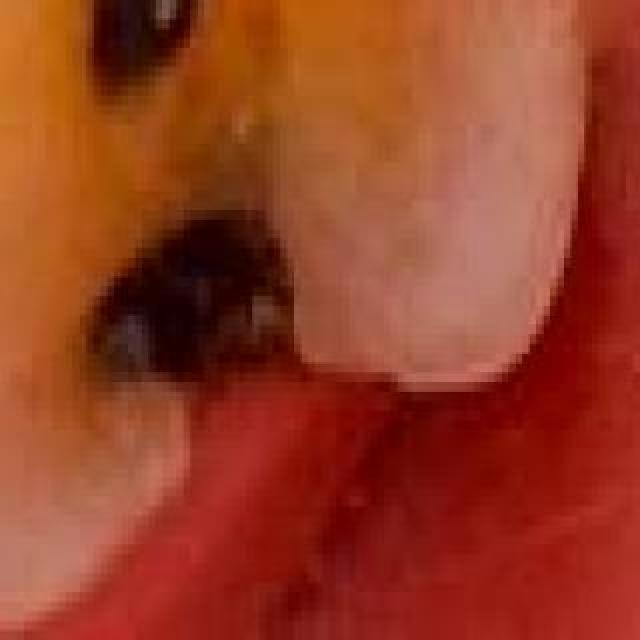cavities: (34, 0, 504, 506)
